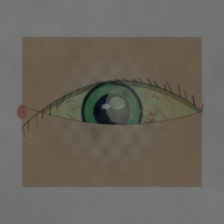corneal_ulcer: (91, 81, 151, 130)
